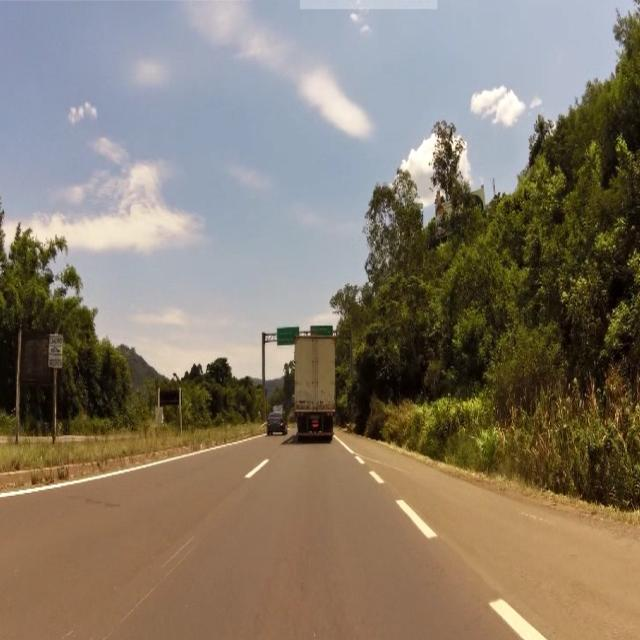I-4: (277, 328, 298, 343), (311, 326, 333, 335)
